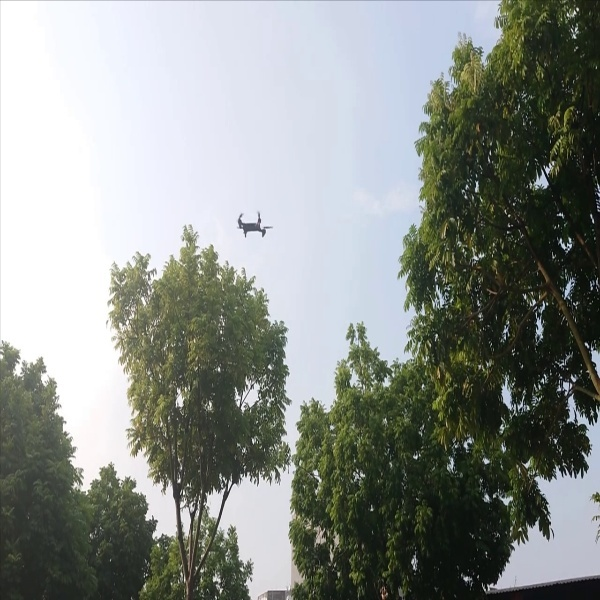drone: (233, 209, 274, 244)
